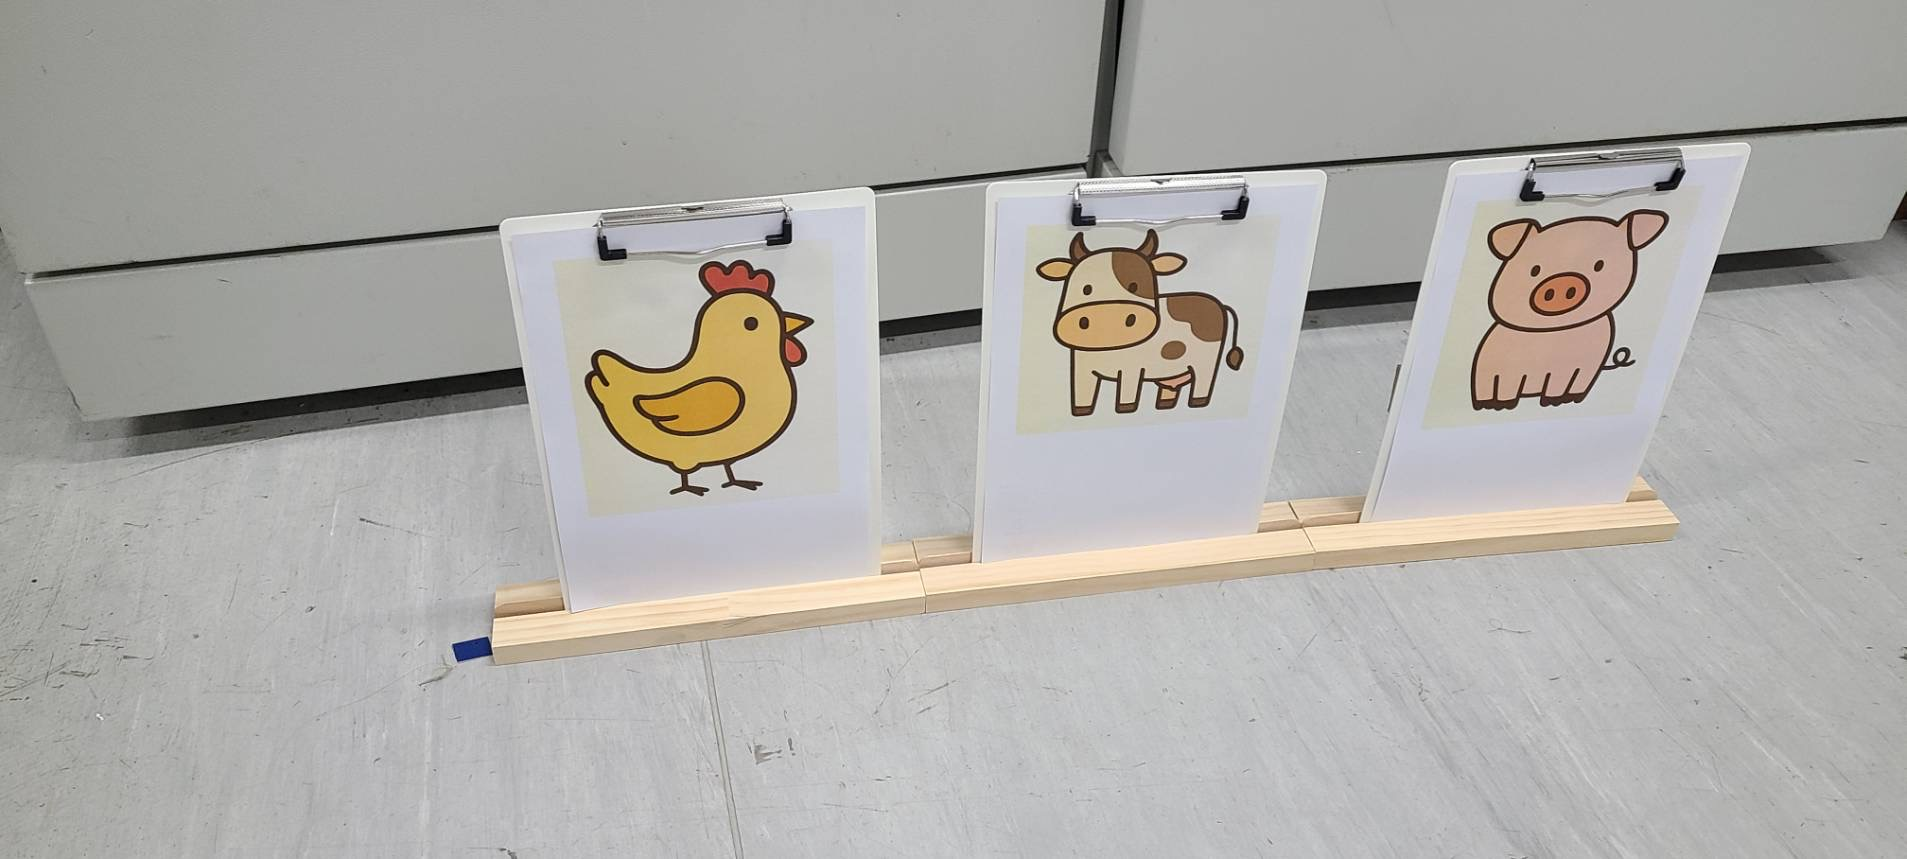pig: (1476, 206, 1664, 433)
